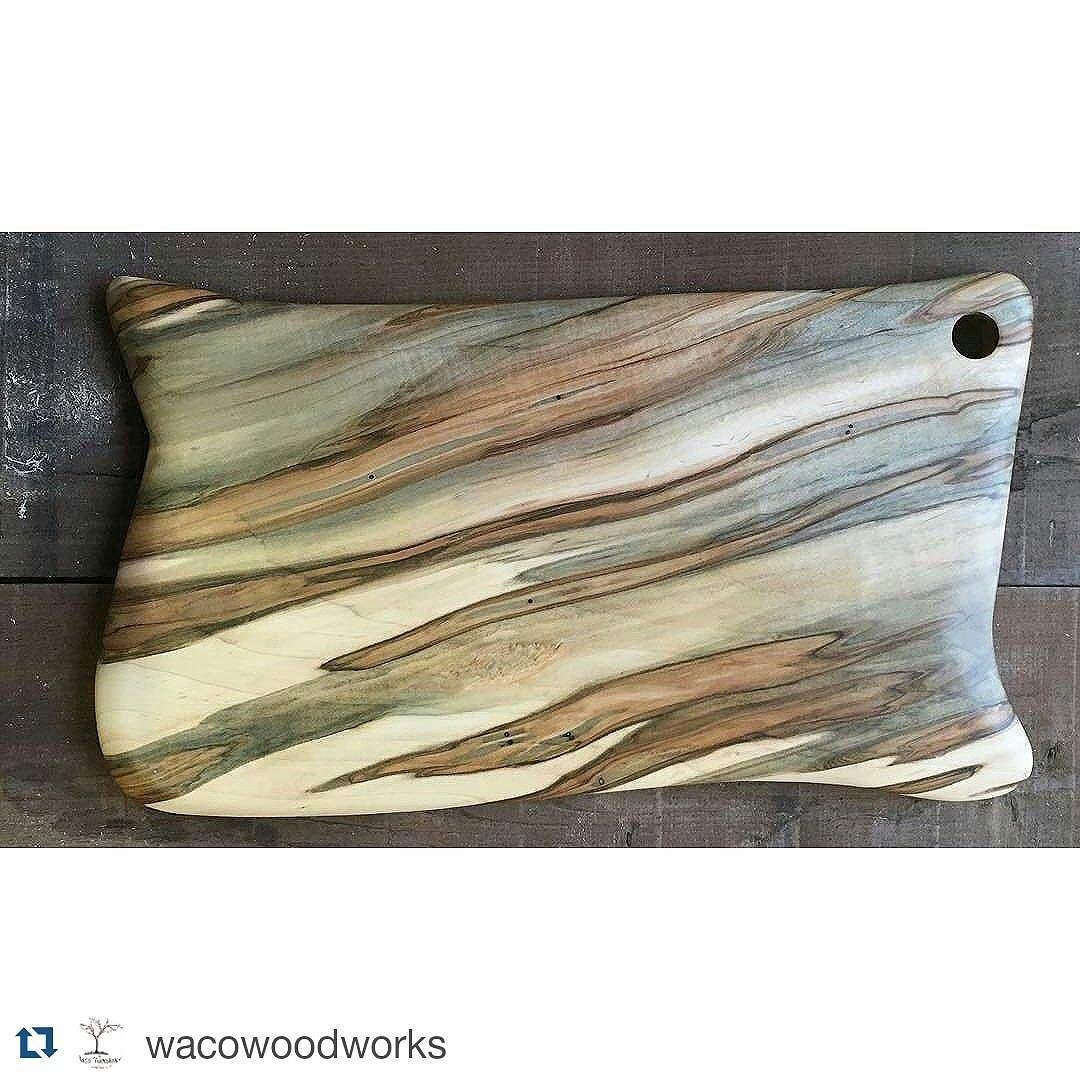gloved_hand: (75, 263, 1051, 821)
